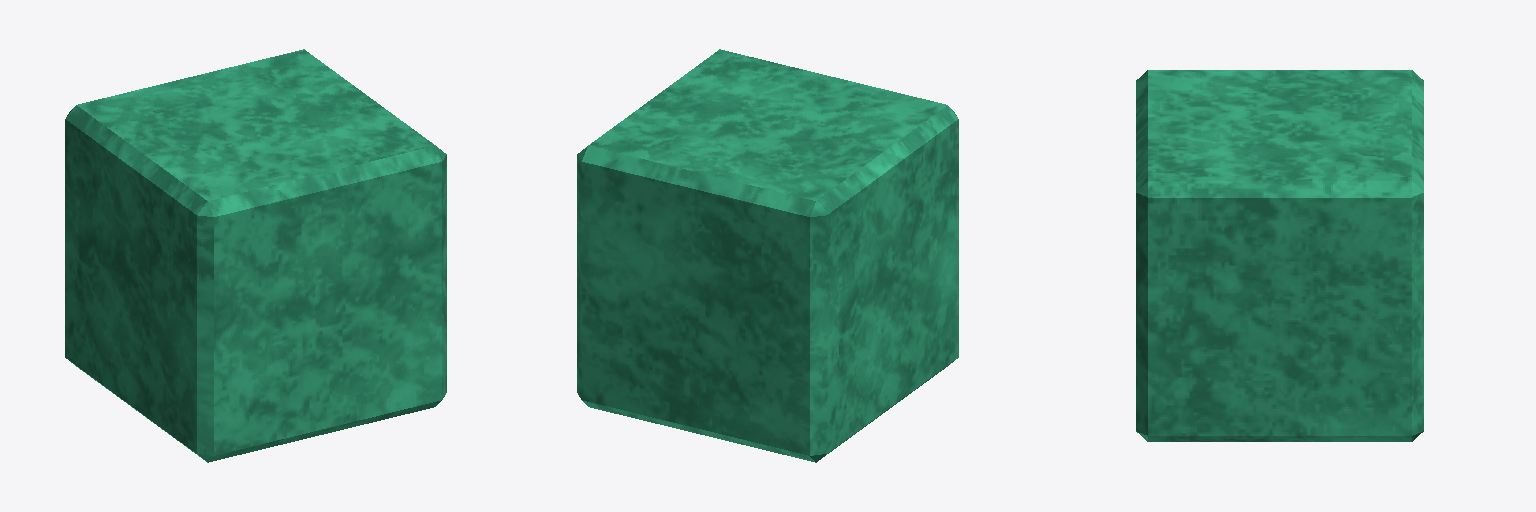
3 renders of one model, left to right at view 1: azimuth 30°, elevation 25°; view 2: azimuth 150°, elevation 25°; view 3: azimuth 270°, elevation 25°, orthographic.
Visible parts, largest first — view 1: Cube; view 2: Cube; view 3: Cube.
Boxes of the visible parts, box(x1,y1,x2,y2) form: Cube: box(65, 49, 446, 462); Cube: box(577, 49, 958, 462); Cube: box(1136, 70, 1423, 441).
Size of the model in its own units: 2 by 2 by 2.
Materials: 1 (1 with a texture image).